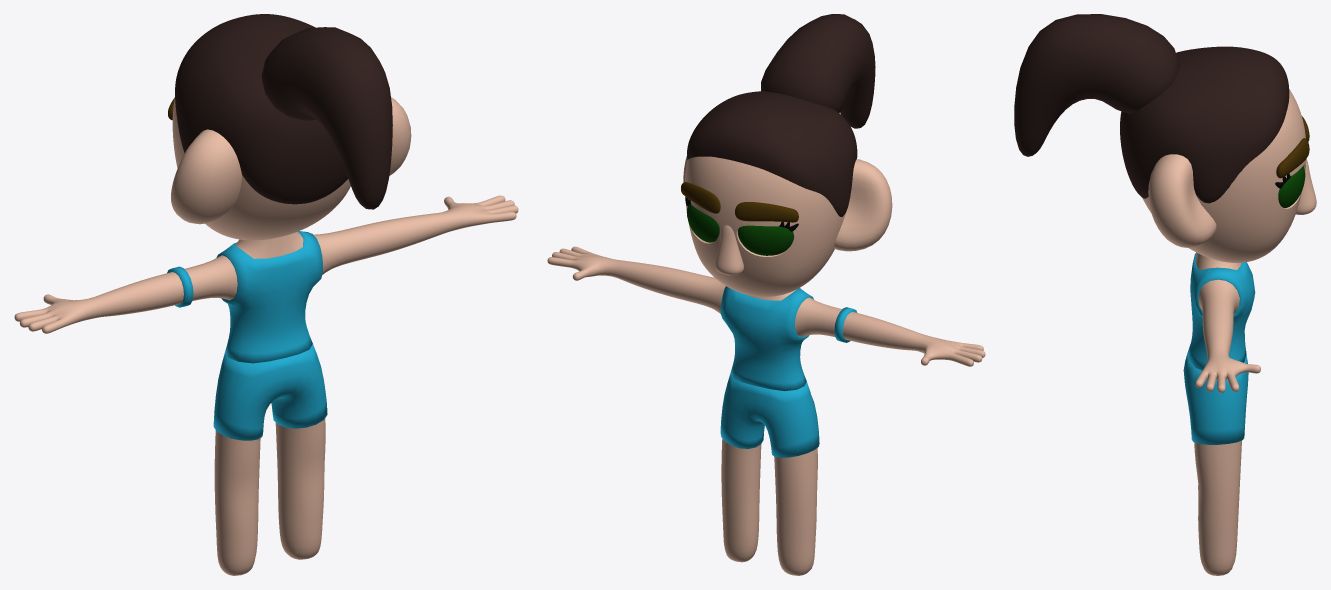
The model's file is BodyFemaleAthlete1.fbx.
3 views of the same model, side by side, from view 1: azimuth 30°, elevation 25°; view 2: azimuth 150°, elevation 25°; view 3: azimuth 270°, elevation 25° (orthographic). The views are drawn at different scales.
Visible parts, largest first — view 1: Body.005, Hairbase.004, HairExtra.001, Head.005, shirt.002, shorts; view 2: Body.005, Head.005, Hairbase.004, HairExtra.001, shirt.002, shorts, Brows.004; view 3: Hairbase.004, HairExtra.001, Head.005, Body.005, shorts, shirt.002, Brows.004.
Boxes of the visible parts, box(x1,y1,x2,y2) form: Body.005: box(14, 195, 518, 575); Hairbase.004: box(175, 14, 348, 204); HairExtra.001: box(261, 27, 392, 209); Head.005: box(171, 97, 411, 240); shirt.002: box(216, 231, 322, 363); shorts: box(213, 344, 327, 440); Body.005: box(547, 246, 985, 575); Head.005: box(683, 156, 892, 296); Hairbase.004: box(687, 91, 857, 216); HairExtra.001: box(761, 14, 875, 128); shirt.002: box(720, 286, 813, 391); shorts: box(720, 374, 819, 457); Brows.004: box(681, 182, 798, 222); Hairbase.004: box(1120, 46, 1289, 203); HairExtra.001: box(1014, 14, 1179, 156); Head.005: box(1142, 89, 1316, 262); Body.005: box(1194, 253, 1260, 575); shorts: box(1183, 353, 1248, 444); shirt.002: box(1187, 252, 1255, 370); Brows.004: box(1276, 116, 1309, 178).
Size of the model in its own units: 172 by 192 by 97.39.
